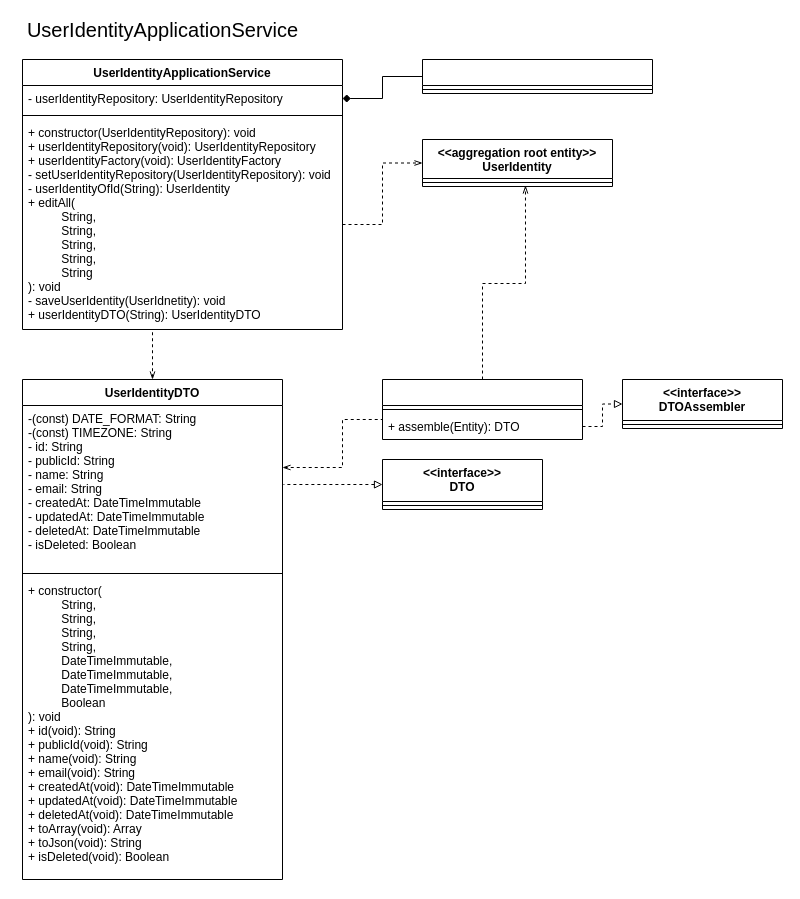
Some shapes in this 800 by 899 pixel diagram are drawn without their labels. Here are the shapes that lost their labels. From the top down, the box of each, then its label:
(422, 58, 652, 94): UserIdentityRepository
(382, 378, 582, 440): UserIdentityDTOAssembler
